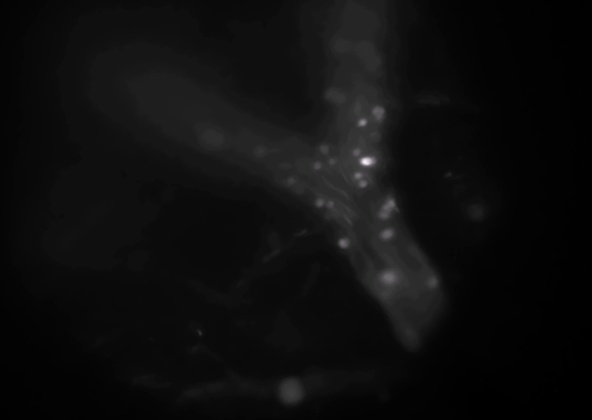cell: (358, 155, 372, 169), (354, 116, 368, 130), (371, 105, 385, 119), (350, 145, 364, 159), (365, 154, 379, 168), (316, 143, 330, 157), (311, 157, 325, 171), (326, 155, 340, 169), (326, 88, 340, 102), (350, 169, 364, 183), (335, 92, 349, 106), (355, 177, 369, 191), (336, 236, 350, 250), (382, 272, 396, 286), (380, 227, 394, 241), (385, 196, 399, 210), (378, 206, 392, 220), (380, 203, 394, 217), (313, 197, 327, 211), (323, 197, 337, 211), (284, 173, 298, 187), (253, 143, 267, 157), (207, 134, 221, 148), (425, 275, 439, 289), (356, 43, 370, 57), (366, 54, 380, 68), (331, 40, 345, 54), (369, 129, 383, 143)
